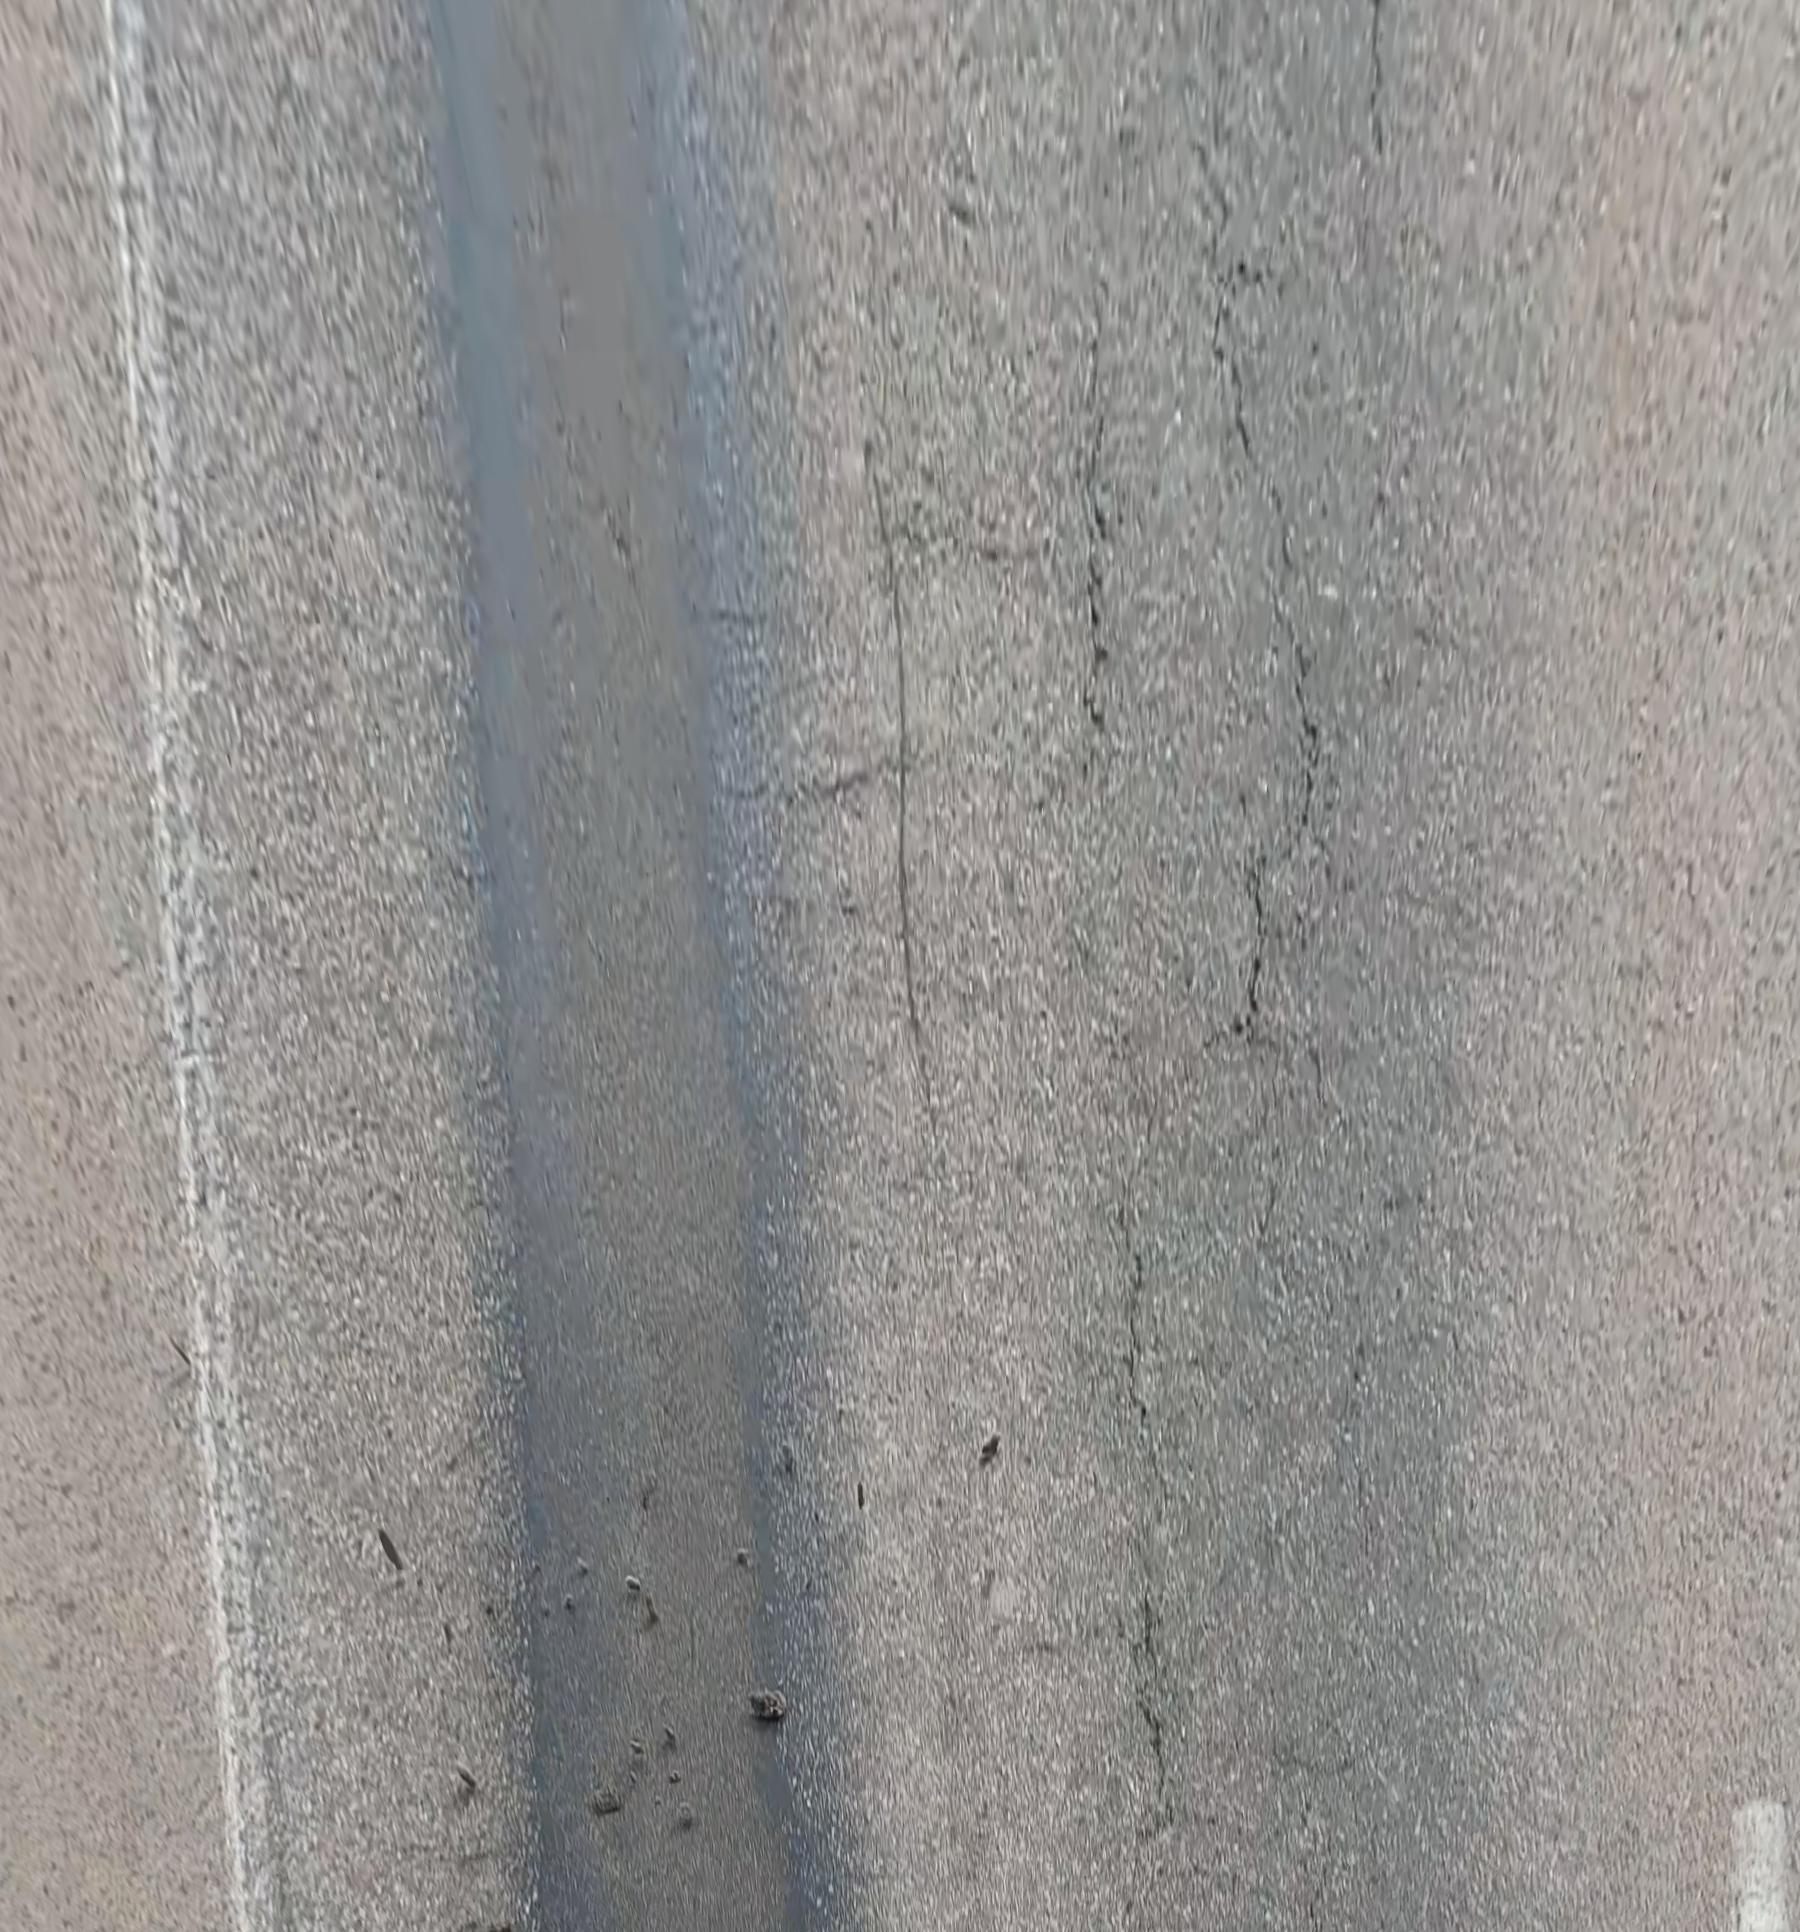pothole_patch_good: (426, 0, 810, 1932)
